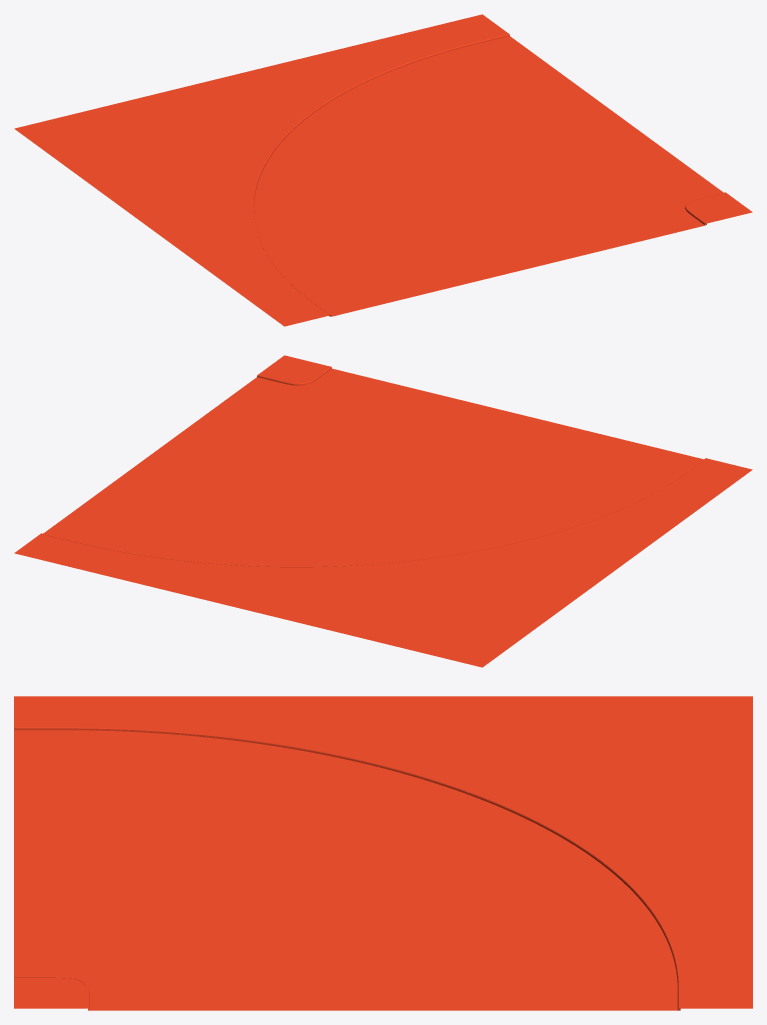
The model's file is SM_Freeway_Turn_30x30_City.fbx.
The picture shows the model from 3 angles, top to bottom: view 1: azimuth 30°, elevation 25°; view 2: azimuth 150°, elevation 25°; view 3: azimuth 270°, elevation 25°; orthographic projection. The views are drawn at different scales.
Parts seen in each view (by area): view 1: SM_Freeway_Turn_30x30_City; view 2: SM_Freeway_Turn_30x30_City; view 3: SM_Freeway_Turn_30x30_City.
Boxes of the visible parts, box(x1,y1,x2,y2) form: SM_Freeway_Turn_30x30_City: box(14, 14, 752, 326); SM_Freeway_Turn_30x30_City: box(14, 355, 752, 667); SM_Freeway_Turn_30x30_City: box(14, 696, 752, 1010).
Size of the model in its own units: 30 by 0.1084 by 30.
